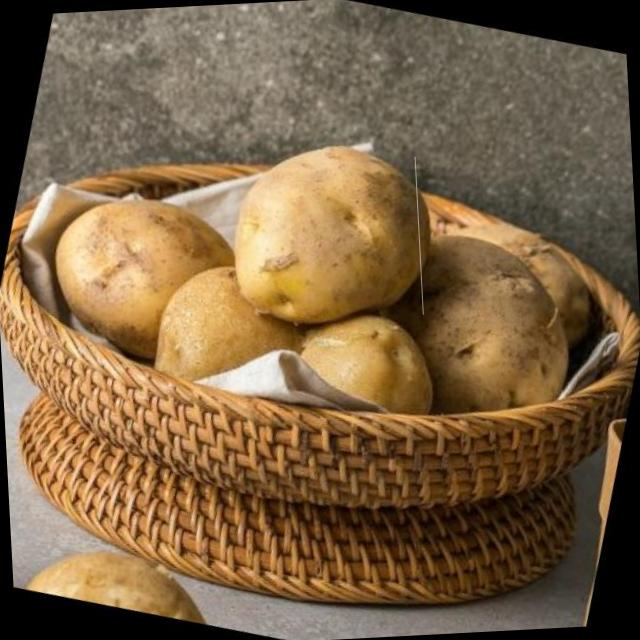potato: (231, 157, 424, 324)
